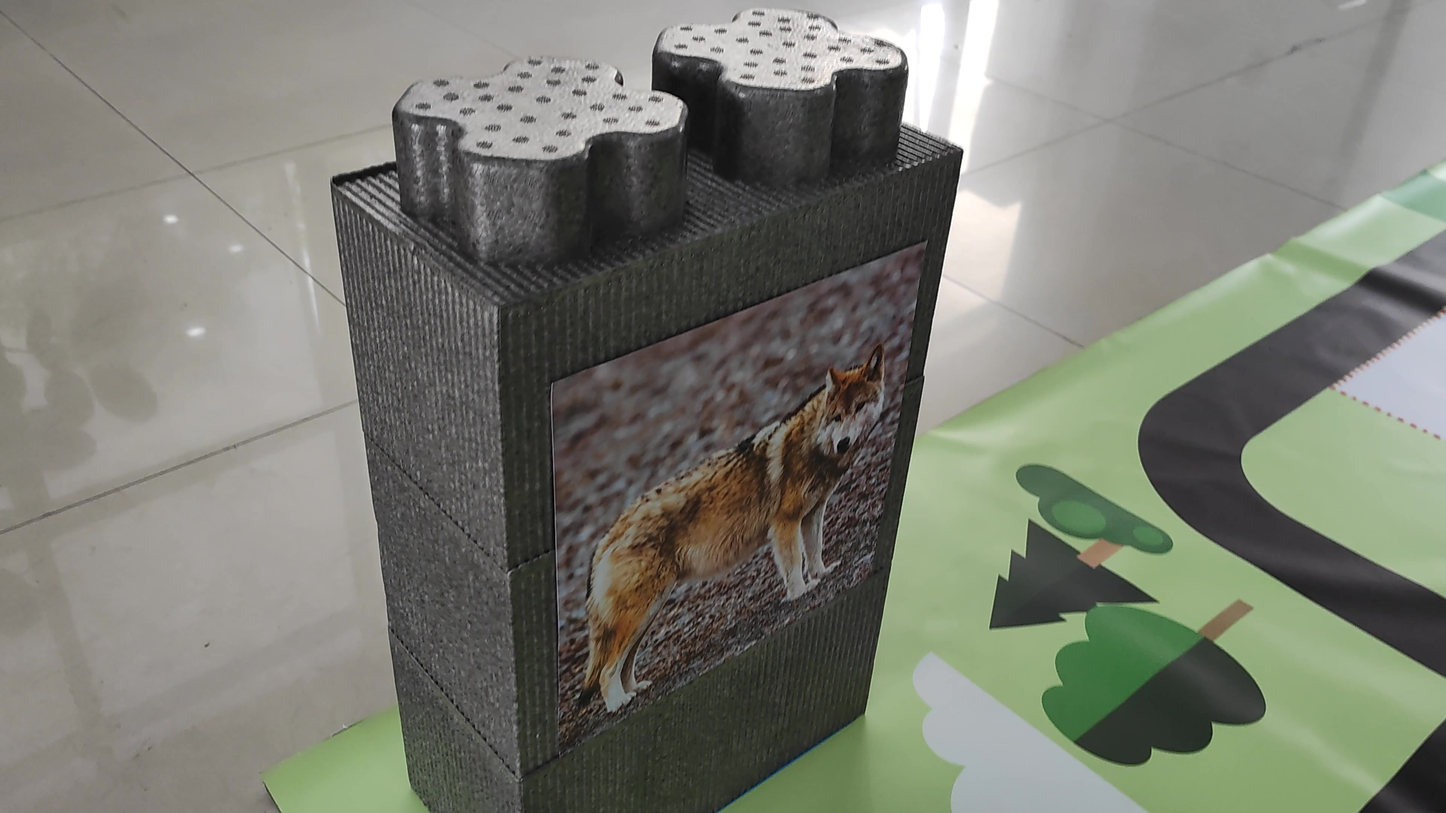wolf: (541, 345, 889, 724)
